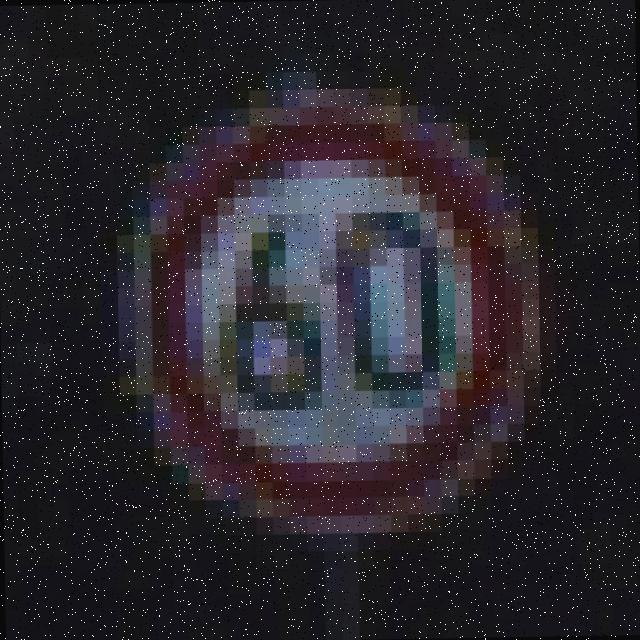Ograniczenie predkosci do 60: (144, 100, 526, 521)
